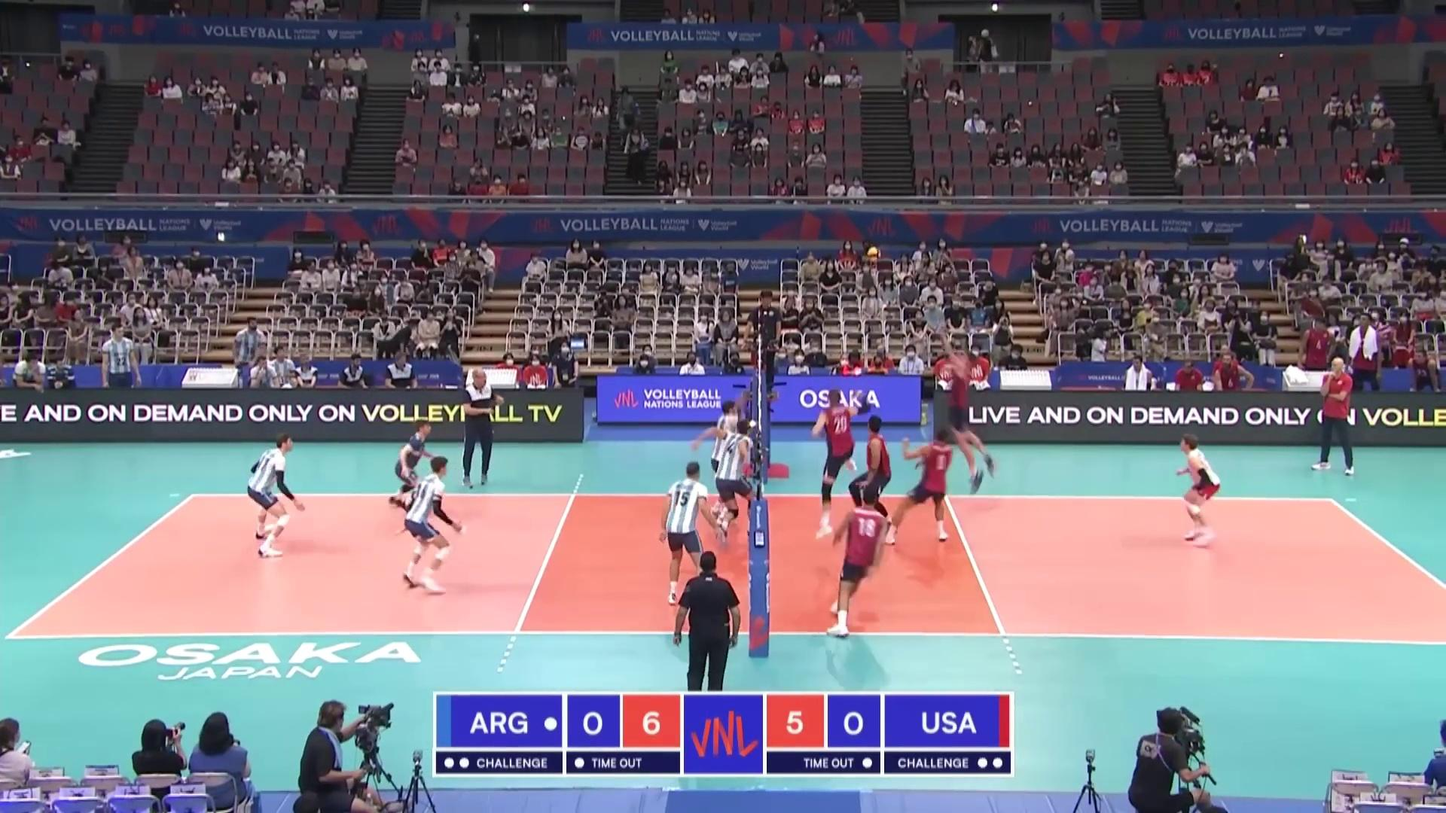player: (931, 337, 991, 487), (812, 384, 871, 536), (399, 455, 463, 594), (660, 460, 720, 608), (826, 491, 885, 638), (887, 429, 955, 546), (247, 433, 302, 558), (699, 419, 753, 546), (851, 417, 896, 547), (1175, 433, 1221, 548), (711, 398, 751, 525), (389, 421, 438, 514)
refree: (667, 556, 741, 693), (745, 288, 782, 394)
